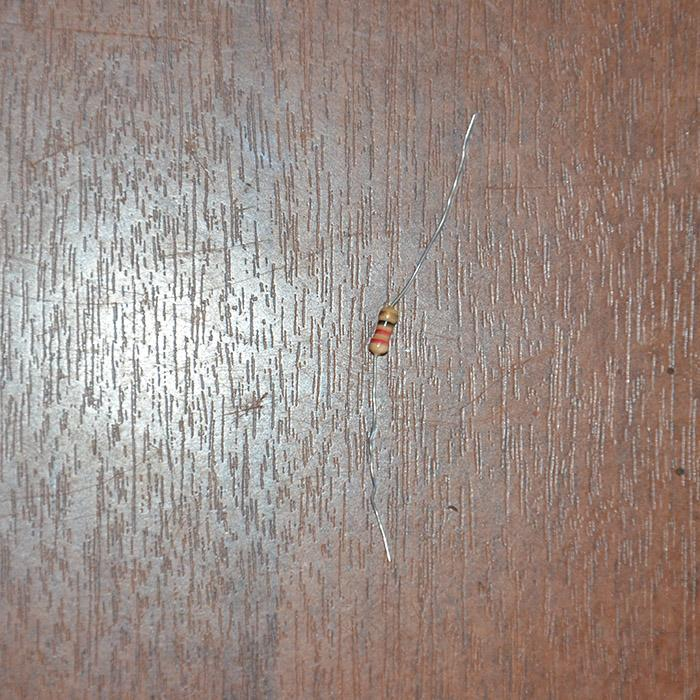resistor: (368, 303, 398, 356)
